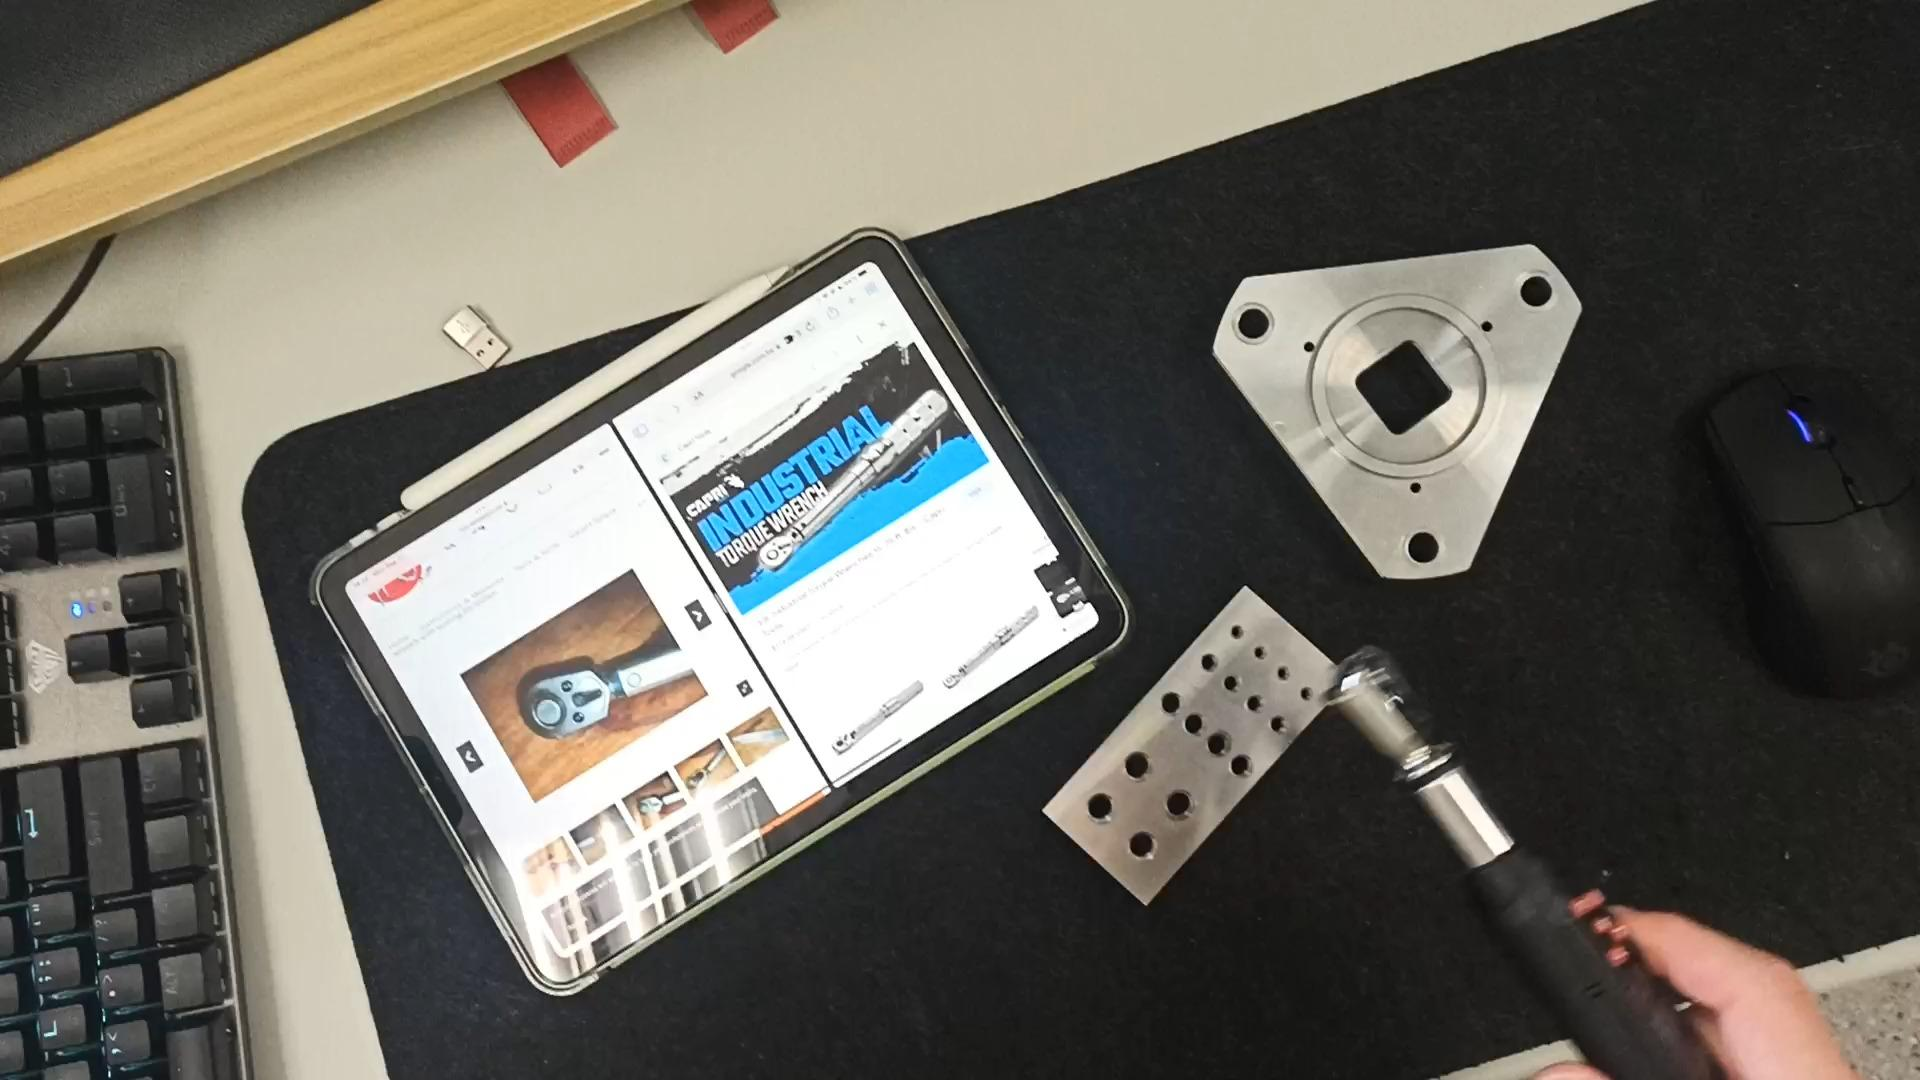Tool: (512, 667, 608, 740), (754, 535, 794, 572)
hole: (1382, 524, 1457, 571), (1503, 270, 1572, 318), (1224, 303, 1287, 351), (1153, 793, 1215, 828), (1102, 752, 1160, 789), (1105, 832, 1163, 866), (1067, 793, 1122, 828), (1196, 735, 1247, 764), (1139, 688, 1189, 717), (1171, 712, 1217, 738), (1220, 757, 1266, 783), (1189, 647, 1229, 673), (1238, 695, 1278, 716), (1228, 620, 1254, 646), (1217, 673, 1246, 696), (1294, 684, 1320, 704), (1274, 659, 1295, 682), (1250, 641, 1269, 665)
